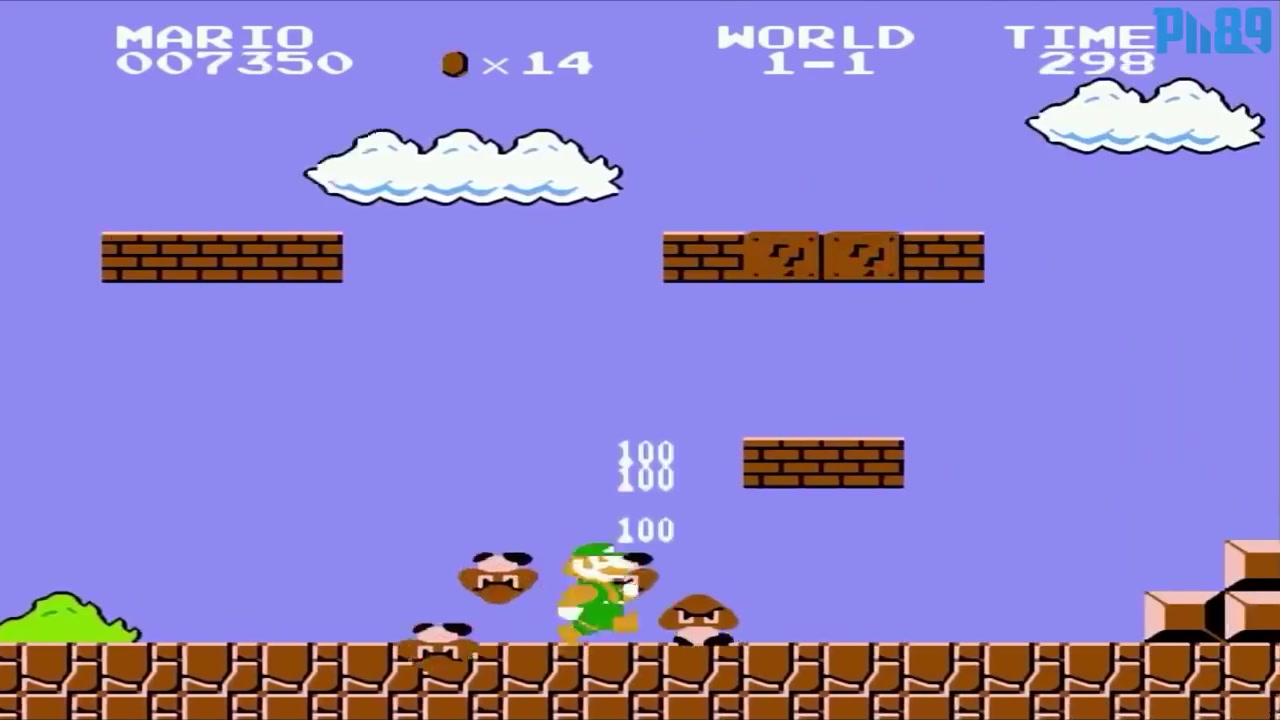mario: (548, 532, 645, 646)
